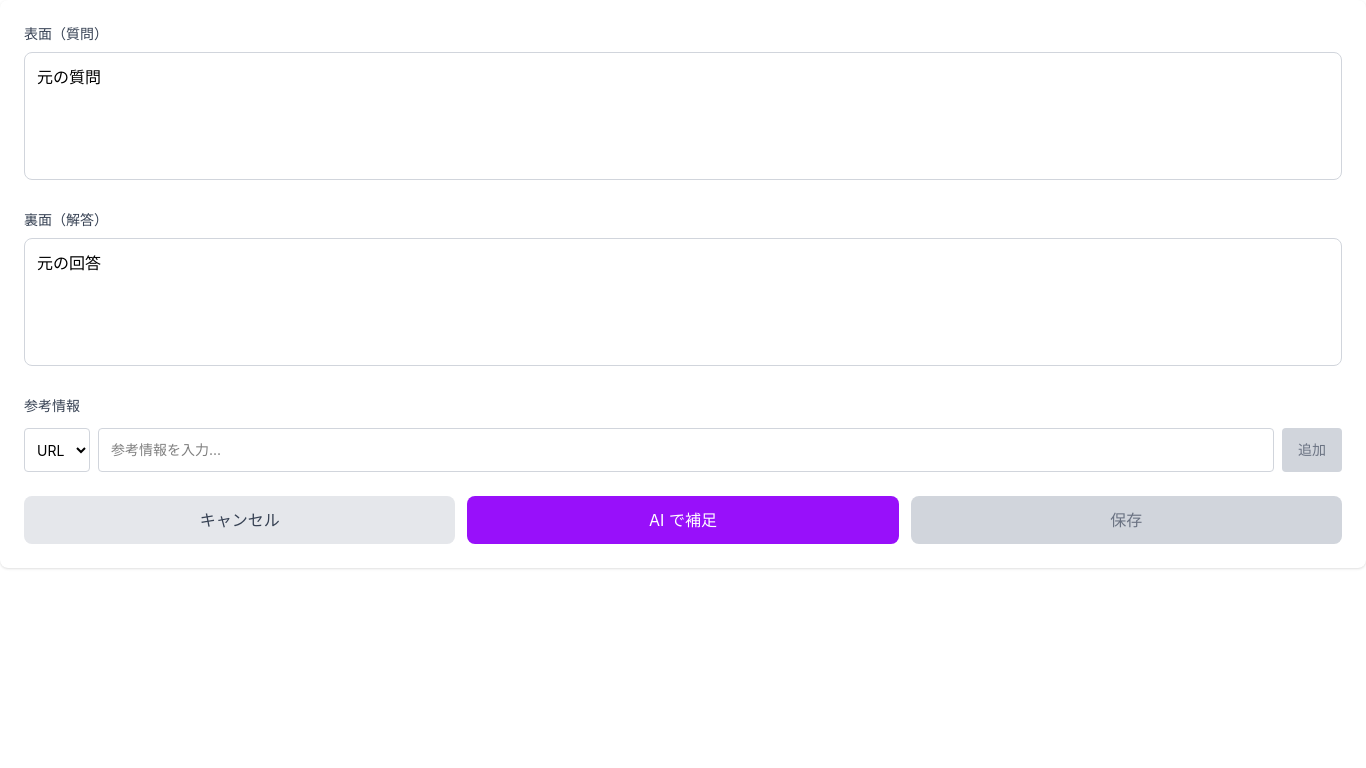
Test: CardForm › AI で補足 › AI で補足エラー時にエラーメッセージが表示される
This screenshot has width=1366, height=768.
Click the button with test id "refine-button" at (683, 520), box [467,496,899,544]
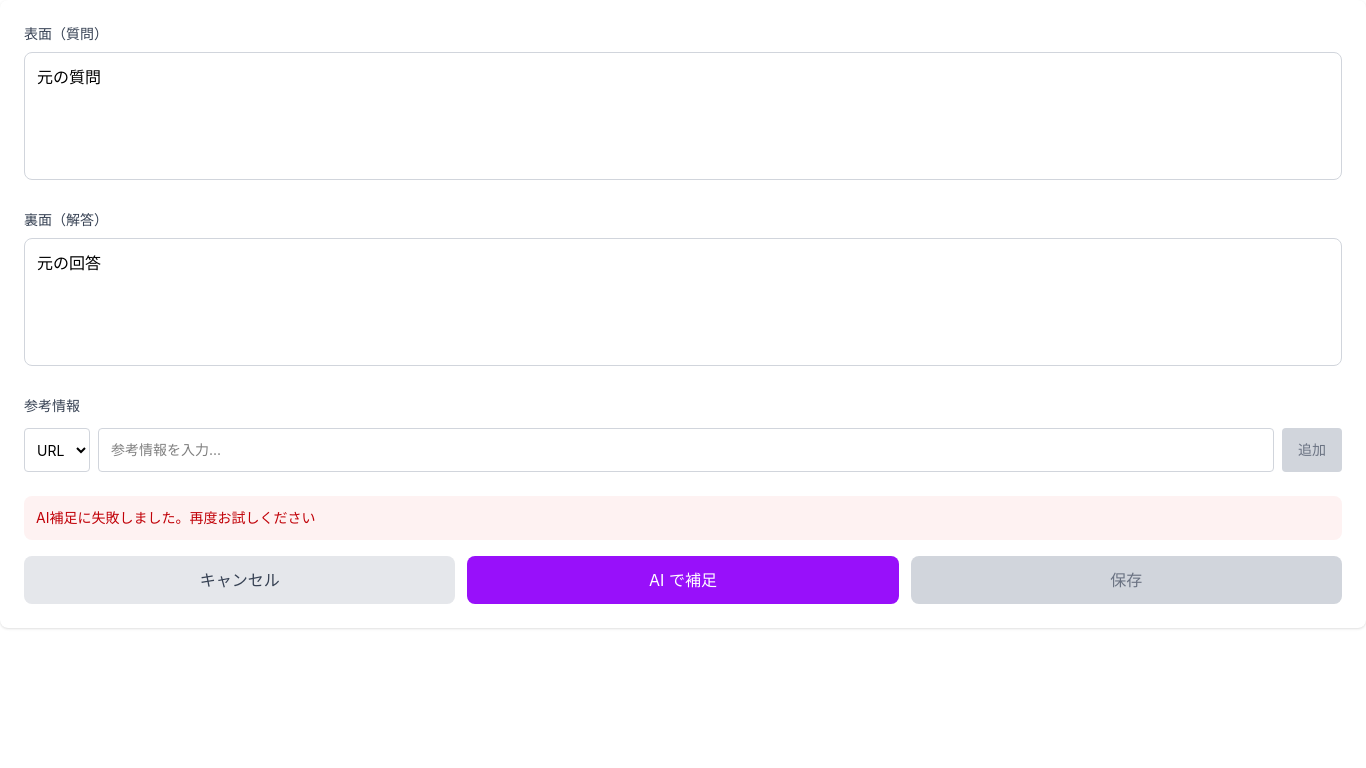
Now the text "AI補足に失敗しました。再度お試しください" is shown, box [24,496,1342,540]
